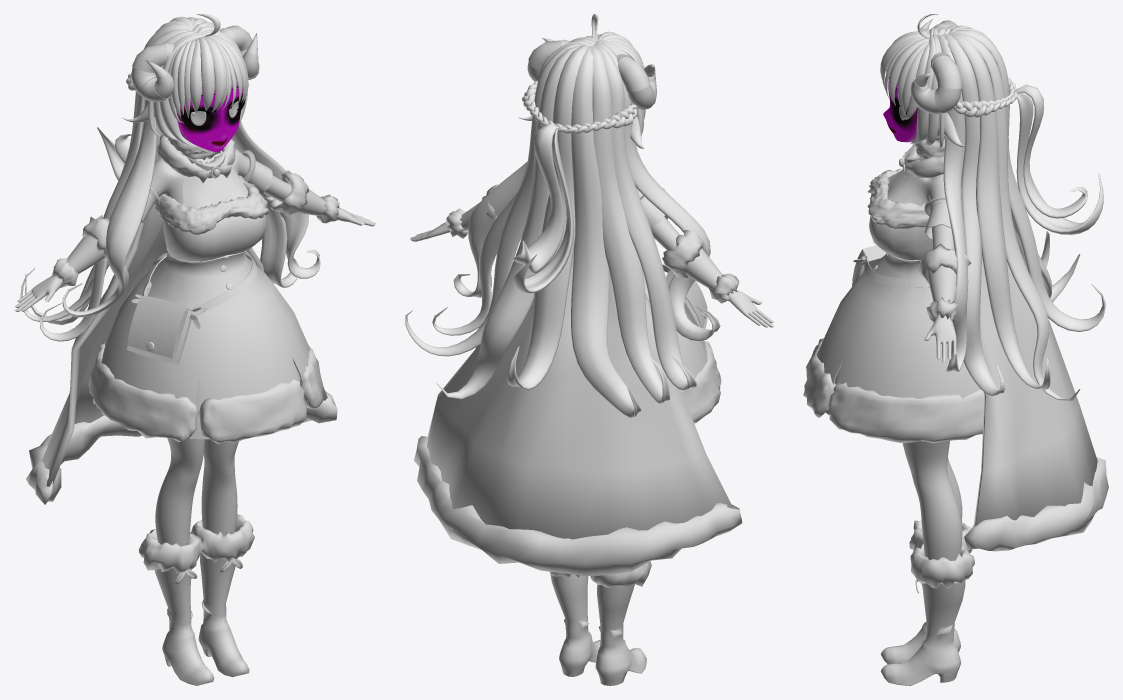
3 views of the same model, side by side, from view 1: azimuth 30°, elevation 25°; view 2: azimuth 150°, elevation 25°; view 3: azimuth 270°, elevation 25° (orthographic).
Visible parts, largest first — view 1: skirt, backHair.019, skirtFully, body57, shoes.009, mad, frontHair.009, shoes.010, bag, madFully, tsuno.002, armAccFully (+6 smaller); view 2: backHair.019, mad, madFully, shoes.009, armAccFully, tsuno.002, skirtFully, body57, armAcc.008, shoes.010, skirt, bag (+3 smaller); view 3: backHair.019, mad, skirt, skirtFully, body57, shoes.009, madFully, frontHair.009, tsuno.002, shoes.010, sideHair.006, armAccFully (+6 smaller).
Boxes of the visible parts, x1,y1,x2,y2 form: skirt: (101,215,310,404); backHair.019: (20,16,320,341); skirtFully: (88,175,324,444); body57: (15,75,375,568); shoes.009: (154,553,249,685); mad: (42,204,327,486); frontHair.009: (168,14,248,123); shoes.010: (138,514,254,573); bag: (126,295,191,364); madFully: (26,391,337,504); tsuno.002: (131,25,259,101); armAccFully: (52,170,339,287); backHair.019: (405,39,720,418); mad: (427,249,733,539); madFully: (414,436,742,575); shoes.009: (550,573,646,685); armAccFully: (446,184,739,303); tsuno.002: (527,38,656,110); skirtFully: (663,188,721,423); body57: (410,188,774,327); armAcc.008: (459,202,722,289); shoes.010: (550,561,651,587); skirt: (642,271,707,378); bag: (666,270,707,340); backHair.019: (902,25,1105,400); mad: (973,256,1097,526); skirt: (817,193,979,410); skirtFully: (803,168,984,443); body57: (883,77,962,560); shoes.009: (880,579,965,685); madFully: (964,457,1108,551); frontHair.009: (880,14,938,119); tsuno.002: (911,19,962,114); shoes.010: (909,520,974,589); sideHair.006: (911,27,966,148); armAccFully: (918,243,971,322).
Bounding box in the file's own units: 83.64 × 144 × 60.59.
